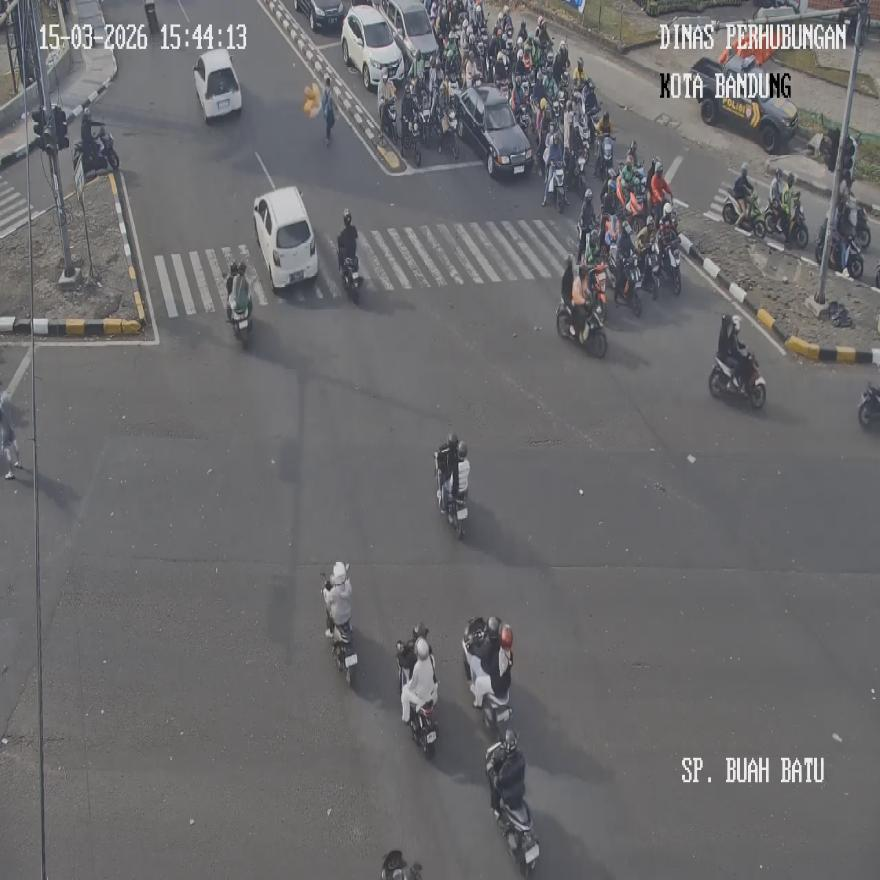Motor: (456, 84, 534, 176), (252, 188, 316, 290), (342, 6, 404, 88), (192, 50, 242, 122)
Truk: (709, 352, 766, 409), (498, 799, 539, 875), (556, 300, 607, 359), (435, 453, 468, 539), (609, 247, 642, 317), (225, 263, 252, 348), (74, 128, 119, 174), (616, 175, 648, 233), (332, 621, 358, 686), (410, 701, 437, 760), (462, 618, 486, 681), (828, 238, 864, 279), (660, 236, 681, 295), (381, 850, 422, 879), (438, 103, 459, 158), (790, 192, 809, 249), (743, 192, 765, 239), (341, 256, 362, 304), (401, 117, 421, 167), (567, 147, 587, 196), (643, 239, 659, 299), (858, 383, 879, 428), (594, 135, 614, 179), (231, 310, 252, 349), (549, 162, 565, 212), (855, 206, 871, 250), (382, 101, 398, 143), (588, 107, 601, 157), (420, 93, 431, 145), (145, 0, 160, 37), (517, 102, 533, 135), (875, 262, 879, 286)
